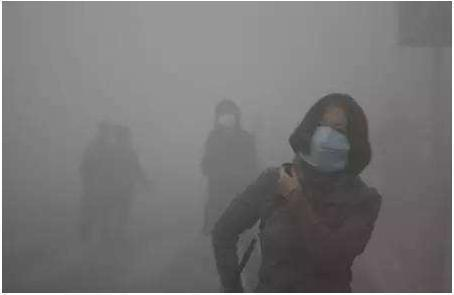person: (210, 91, 386, 295), (199, 95, 269, 258), (109, 124, 154, 243), (78, 120, 114, 236)
